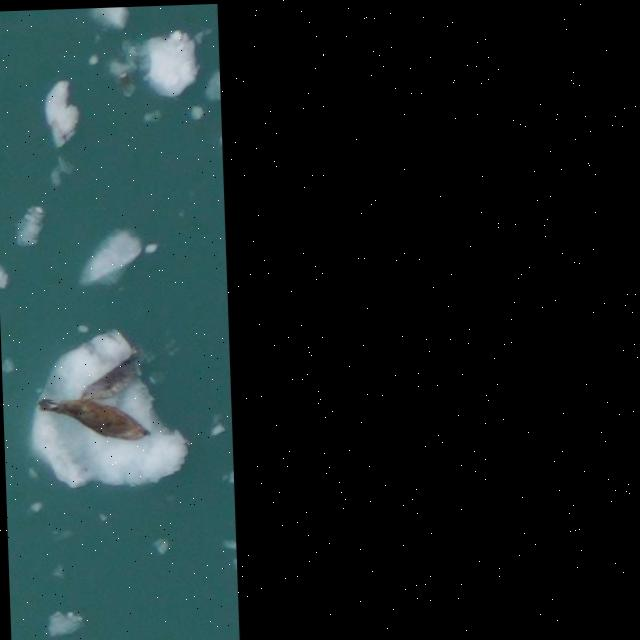seal: (38, 399, 148, 442)
